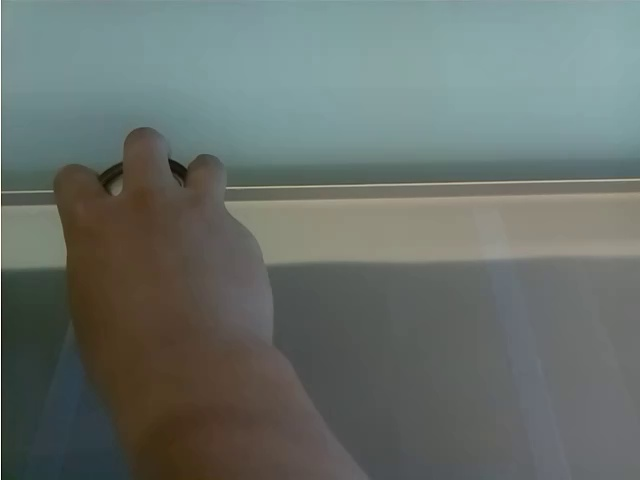hand: (50, 122, 282, 400)
